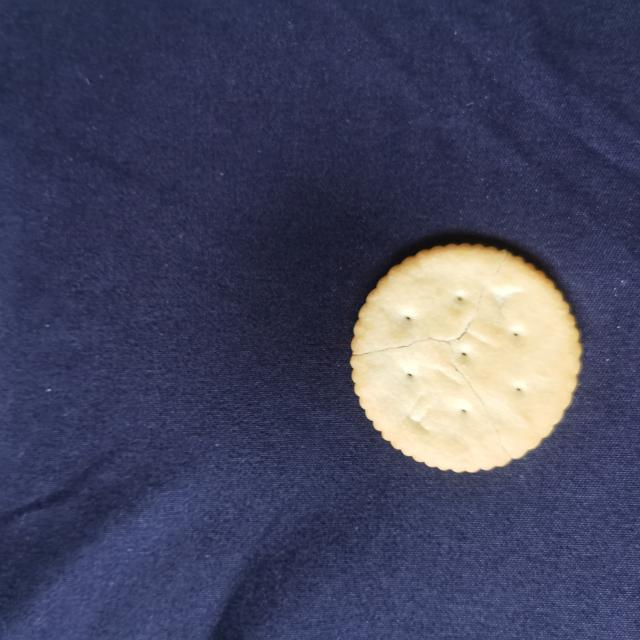Fracture: (352, 249, 528, 463)
